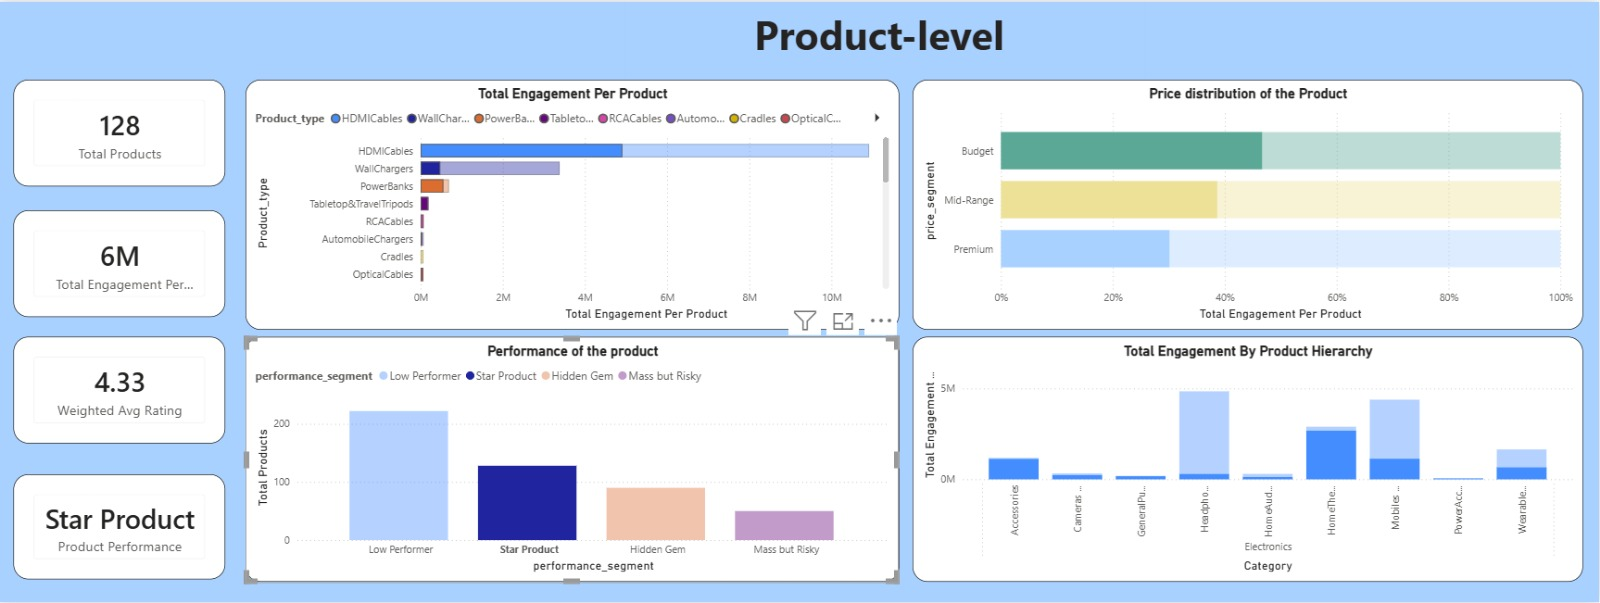

The dashboard page shown, as its layout file describes it:
{"tool":"powerbi","page":{"name":"Page 2","canvas":[1920,720],"ordinal":1},"visuals":[{"type":"cardVisual","fields":{"Data":["product_table.Total Products"]},"box":[18,94,254,128],"z":0},{"type":"cardVisual","fields":{"Data":["product_table.Product Performance"]},"box":[18,566,254,126],"z":1000},{"type":"cardVisual","fields":{"Data":["product_table.Weighted Avg Rating"]},"box":[18,402,254,128],"z":2000},{"type":"cardVisual","fields":{"Data":["product_table.Total Engagement Per Product"]},"box":[18,250,254,128],"z":3000},{"type":"barChart","title":"Total Engagement Per Product ","fields":{"Category":["product_table.Product_type"],"Series":["product_table.Product_type"],"Y":["product_table.Total Engagement Per Product"]},"box":[296,94,784,300],"z":4000},{"type":"columnChart","title":"Performance of the product","fields":{"Category":["product_table.performance_segment"],"Series":["product_table.performance_segment"],"Y":["product_table.Total Products"]},"box":[296,402,784,294],"z":5000},{"type":"hundredPercentStackedBarChart","title":"Price distribution of the Product","fields":{"Category":["product_table.price_segment"],"Y":["product_table.Total Engagement Per Product"]},"box":[1096,94,804,300],"z":6000},{"type":"clusteredColumnChart","title":"Total Engagement By Product Hierarchy","fields":{"Category":["product_table.department Hierarchy.department","product_table.department Hierarchy.Category","product_table.department Hierarchy.Product_type"],"Y":["product_table.Total Engagement Per Product"]},"box":[1096,402,804,294],"z":7000},{"type":"textbox","box":[751.7,0,623.3,93.3],"z":8000}]}

Visuals, with their boxes in screenshot pixels (x1, y1, x2, y2), scaled from the page's 1920x720 canvas onto the 1600x603 screenshot:
cardVisual - product_table.Total Products: (x1=15, y1=79, x2=227, y2=186)
cardVisual - product_table.Product Performance: (x1=15, y1=474, x2=227, y2=580)
cardVisual - product_table.Weighted Avg Rating: (x1=15, y1=337, x2=227, y2=444)
cardVisual - product_table.Total Engagement Per Product: (x1=15, y1=209, x2=227, y2=317)
"Total Engagement Per Product " barChart: (x1=247, y1=79, x2=900, y2=330)
"Performance of the product" columnChart: (x1=247, y1=337, x2=900, y2=583)
"Price distribution of the Product" hundredPercentStackedBarChart: (x1=913, y1=79, x2=1583, y2=330)
"Total Engagement By Product Hierarchy" clusteredColumnChart: (x1=913, y1=337, x2=1583, y2=583)
textbox: (x1=626, y1=0, x2=1146, y2=78)
